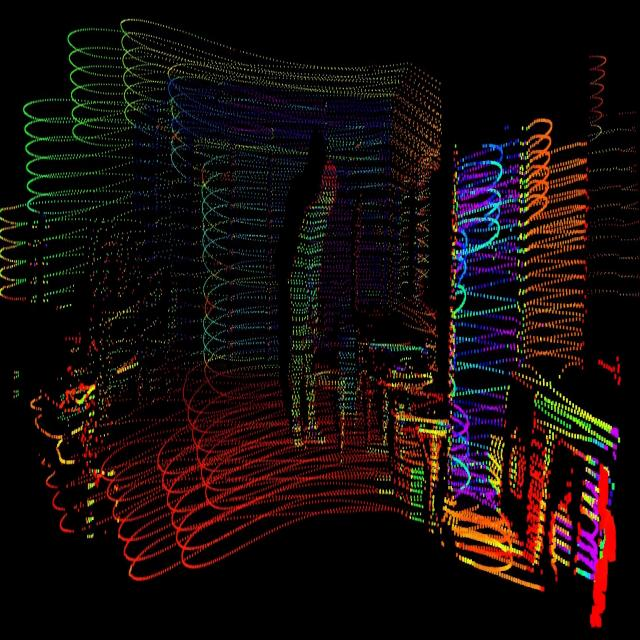human: (286, 146, 339, 454)
